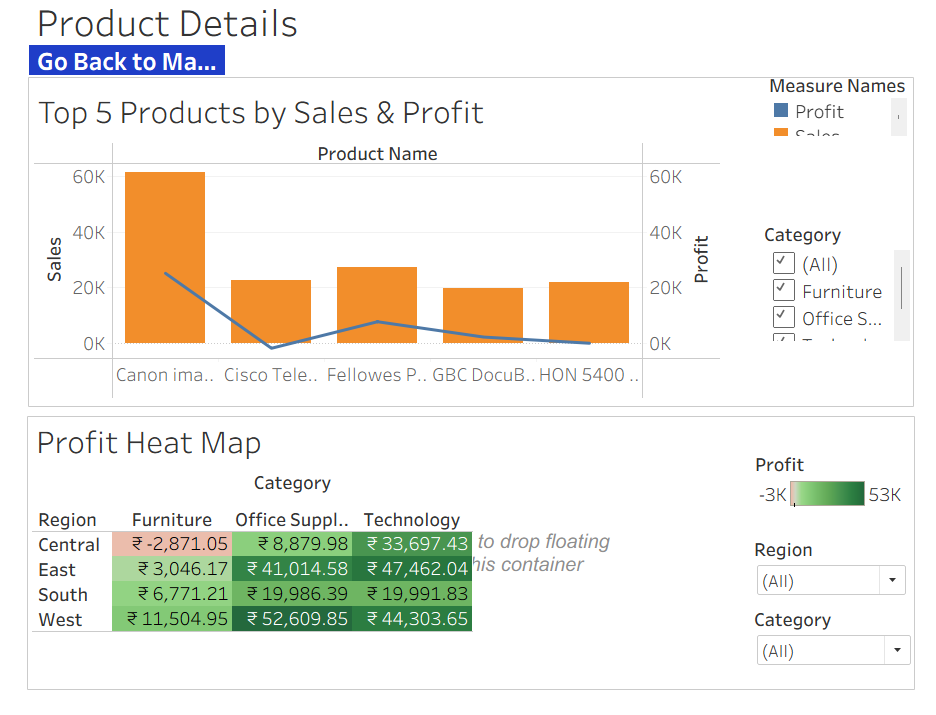

Layout of this report page (visuals, bound fields, positions):
{"tool":"tableau","page":{"name":"Product Detail dashboard","canvas":[900,700],"ordinal":2},"visuals":[{"type":"title","box":[8,8,884,53]},{"type":"dashboard-object","box":[9,58,196,30]},{"type":"legend","title":"Top 5 Products by Sales & Profit","param":"[federated.0w46ouo0xhwxt51fr6fwt11aox24].[:Measure Names]","box":[749,85,140,64]},{"type":"worksheet","title":"Top 5 Products by Sales & Profit","mark":"Automatic","rows":["Sales","Profit"],"cols":["Product Name"],"box":[14,99,687,313]},{"type":"filter","title":"Top 5 Products by Sales & Profit","param":"[federated.0w46ouo0xhwxt51fr6fwt11aox24].[none:Category:nk]","box":[744,234,146,120]},{"type":"worksheet","title":"Profit Heat Map","mark":"Square","rows":["Region"],"cols":["Category"],"box":[12,429,696,267]},{"type":"legend","title":"Profit Heat Map","param":"[federated.0w46ouo0xhwxt51fr6fwt11aox24].[sum:Profit:qk]","box":[735,464,151,70]},{"type":"filter","title":"Profit Heat Map","param":"[federated.0w46ouo0xhwxt51fr6fwt11aox24].[none:Region:nk]","box":[734,549,155,62]},{"type":"filter","title":"Profit Heat Map","param":"[federated.0w46ouo0xhwxt51fr6fwt11aox24].[none:Category:nk]","box":[734,619,160,79]}]}

Visuals, with their boxes in screenshot pixels (x1, y1, x2, y2), scaled from the page's 900x700 canvas onto the 936x715 screenshot:
title: rect(8, 8, 928, 62)
dashboard-object: rect(9, 59, 213, 90)
"Top 5 Products by Sales & Profit" legend: rect(779, 87, 925, 152)
"Top 5 Products by Sales & Profit" worksheet: rect(15, 101, 729, 421)
"Top 5 Products by Sales & Profit" filter: rect(774, 239, 926, 362)
"Profit Heat Map" worksheet (Square marks): rect(12, 438, 736, 711)
"Profit Heat Map" legend: rect(764, 474, 921, 545)
"Profit Heat Map" filter: rect(763, 561, 925, 624)
"Profit Heat Map" filter: rect(763, 632, 930, 713)
